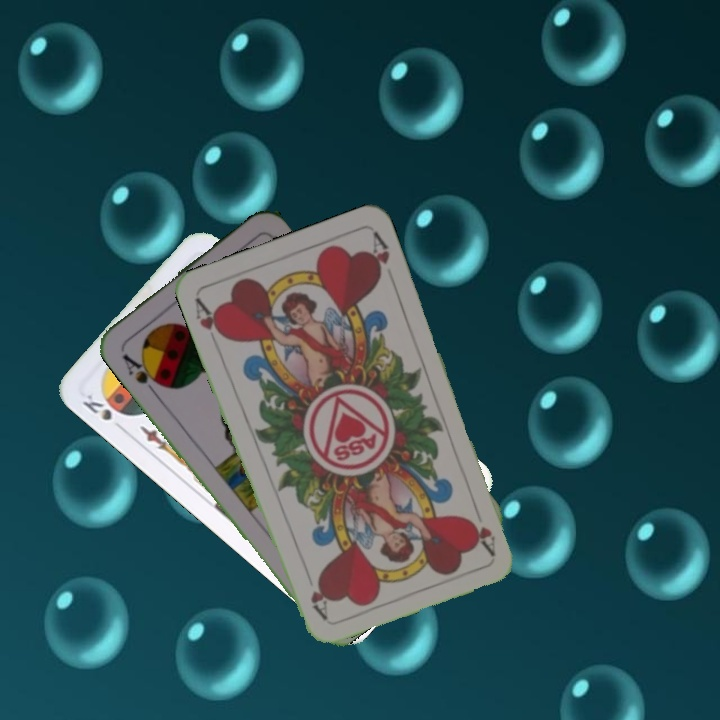HA: (191, 293, 229, 343), (465, 500, 498, 557)
SA: (118, 349, 165, 395)
SK: (78, 387, 115, 423)
